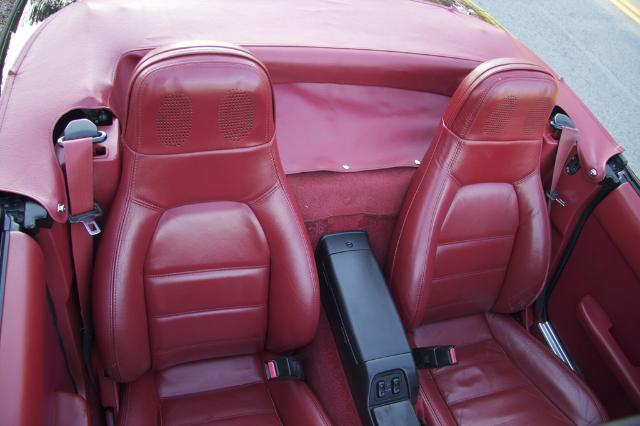Seatbelt: (54, 117, 110, 425), (548, 124, 578, 216)
